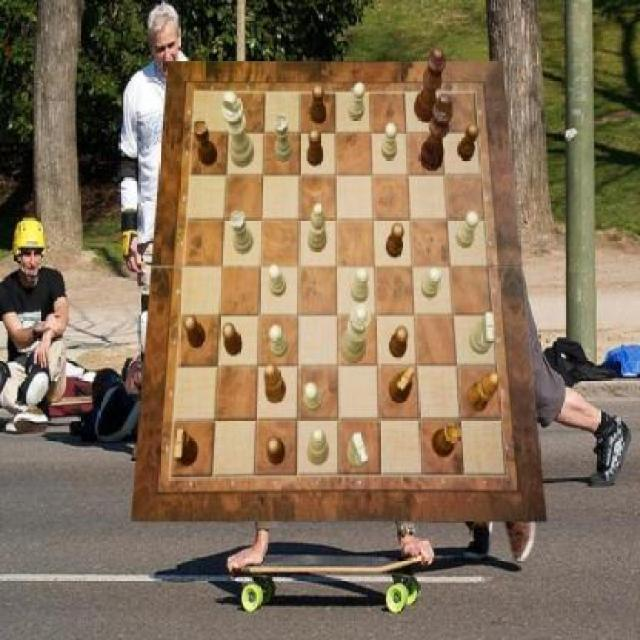bishop: (468, 372, 500, 412), (265, 364, 287, 404)
black-bishop: (420, 94, 453, 171)
black-king: (389, 366, 416, 404), (174, 428, 198, 466)
black-knight: (457, 123, 479, 161), (185, 316, 207, 350), (386, 222, 406, 258), (223, 323, 243, 357), (311, 84, 327, 124), (389, 326, 408, 359), (308, 129, 324, 167), (266, 437, 286, 465)
black-pawn: (414, 48, 447, 122)
black-queen: (194, 120, 218, 166), (432, 423, 462, 458)
black-rook: (308, 203, 328, 252), (306, 428, 329, 465)
white-bishop: (221, 89, 254, 167)
white-king: (471, 312, 495, 355), (348, 432, 370, 468)
white-knight: (457, 211, 480, 248), (422, 268, 442, 300), (348, 83, 364, 122), (270, 324, 288, 358), (382, 123, 398, 161), (351, 268, 368, 302), (269, 265, 287, 297), (305, 383, 322, 411)
white-pawn: (342, 304, 372, 364)
white-queen: (230, 210, 254, 254), (274, 114, 293, 161)
